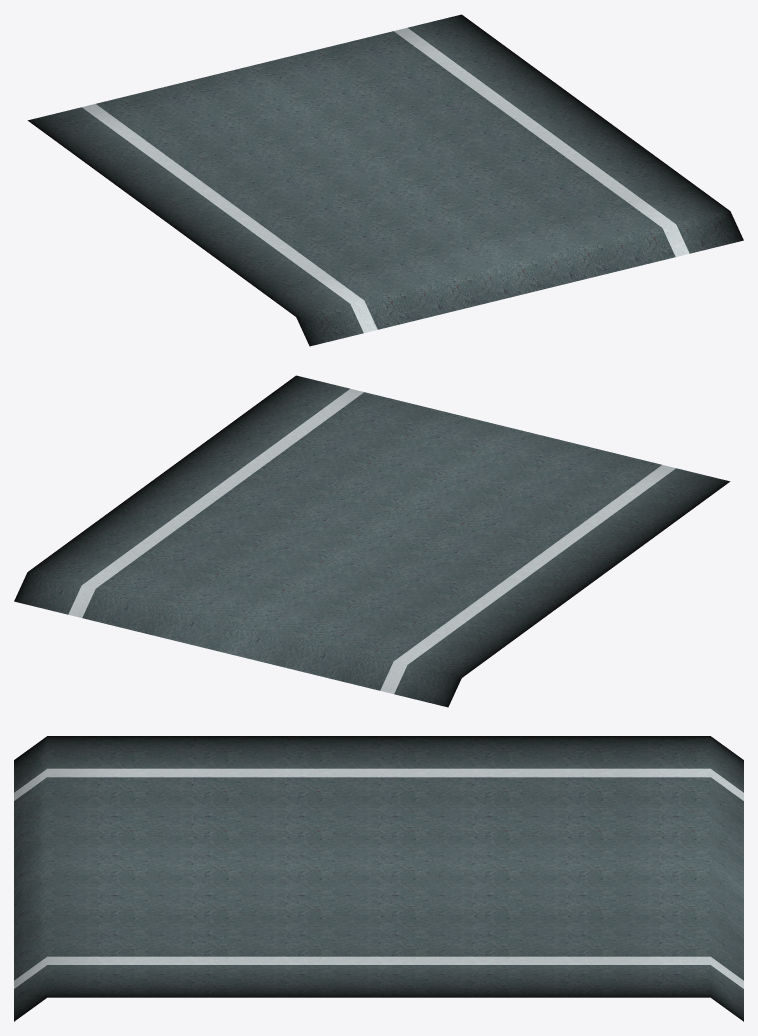
File: K_NORM_RORD.glb
The picture shows the model from 3 angles, top to bottom: view 1: azimuth 30°, elevation 25°; view 2: azimuth 150°, elevation 25°; view 3: azimuth 270°, elevation 25°; orthographic projection. The views are drawn at different scales.
Visible parts, largest first — view 1: obj3; view 2: obj3; view 3: obj3.
Part boxes in pixels (left/top/right/bottom): obj3: left=27, top=14, right=743, bottom=346; obj3: left=14, top=375, right=730, bottom=707; obj3: left=14, top=736, right=743, bottom=1021.
Bounding box in the file's own units: 23.33 × 1 × 27.5.
Materials: 2 (2 with a texture image).
